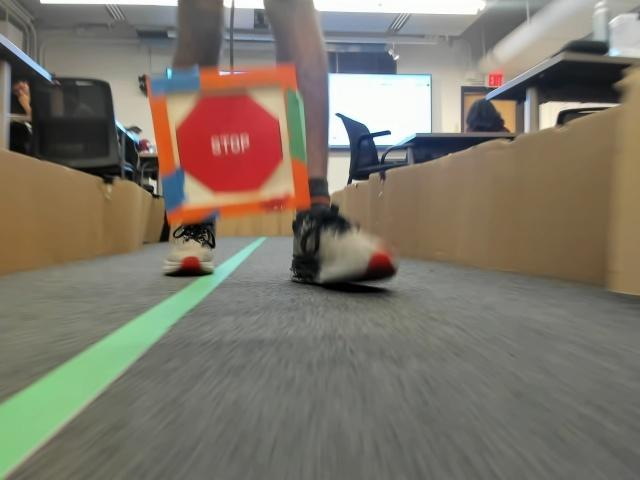Stop: (172, 101, 276, 199)
